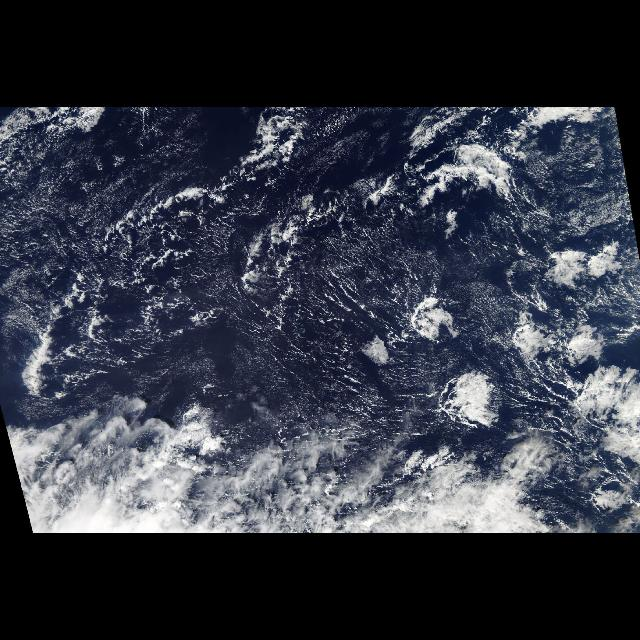Gravel: (56, 188, 550, 416)
